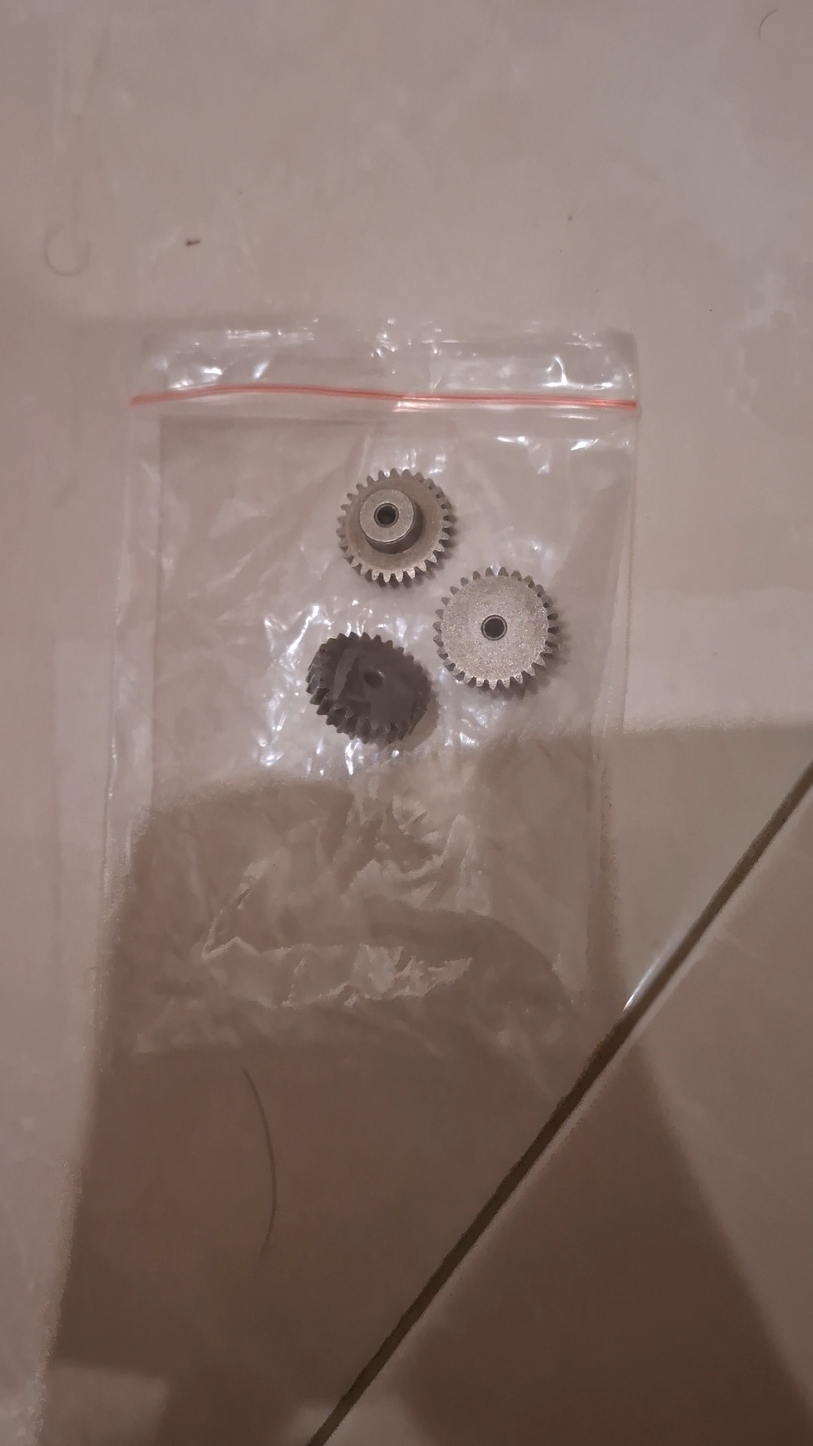spur gear: (430, 566, 560, 694), (304, 629, 432, 746), (335, 467, 455, 586)
